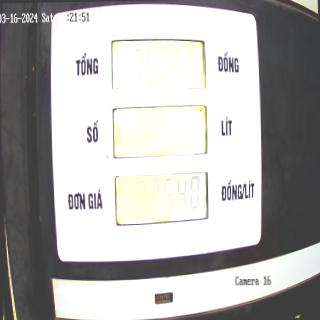screen: (109, 32, 210, 231)
